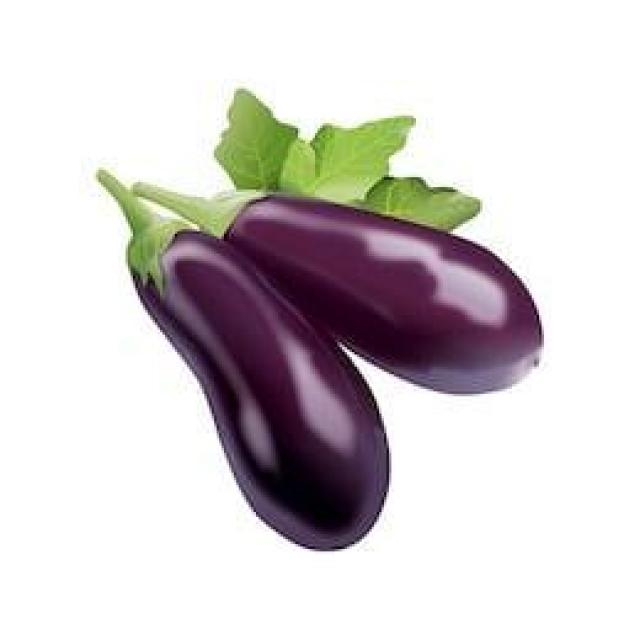Eggplant: (126, 227, 395, 552), (348, 201, 550, 399)
